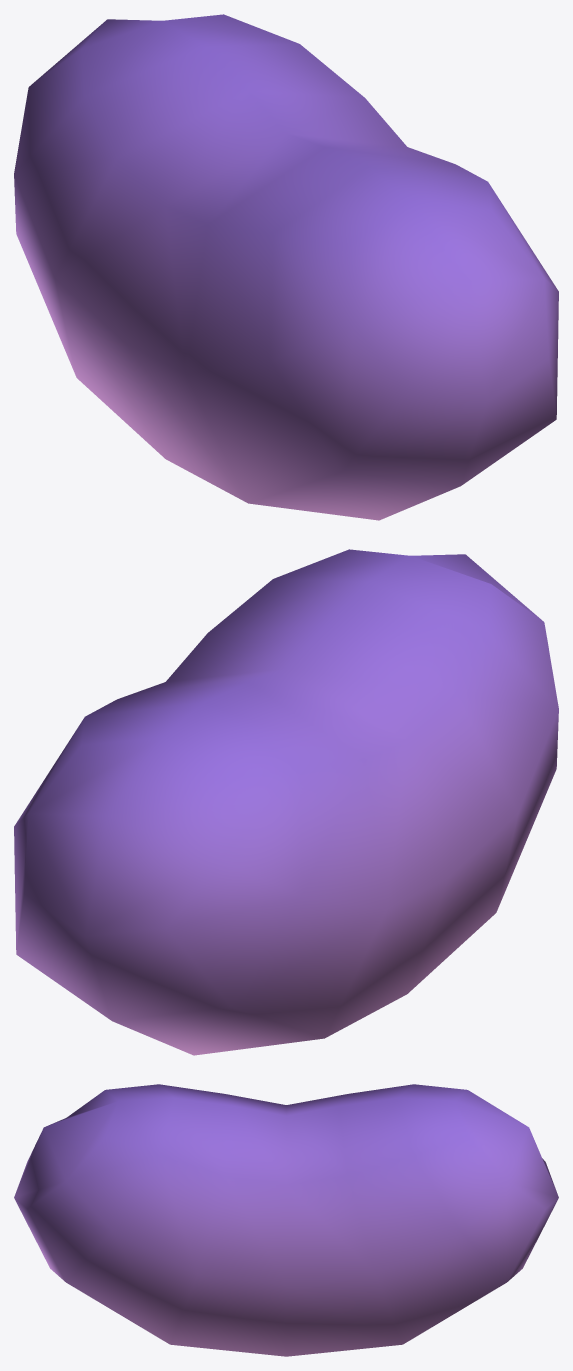
File: consumables-sugar-jellybean_v1.glb
The picture shows the model from 3 angles, top to bottom: view 1: azimuth 30°, elevation 25°; view 2: azimuth 150°, elevation 25°; view 3: azimuth 270°, elevation 25°; orthographic projection. The views are drawn at different scales.
Visible parts, largest first — view 1: JellyBean.001; view 2: JellyBean.001; view 3: JellyBean.001.
Boxes of the visible parts, x1=… form: JellyBean.001: x1=14, y1=14, x2=558, y2=520; JellyBean.001: x1=14, y1=549, x2=558, y2=1055; JellyBean.001: x1=14, y1=1084, x2=558, y2=1356.
Size of the model in its own units: 0.0174 by 0.0182 by 0.0364.
